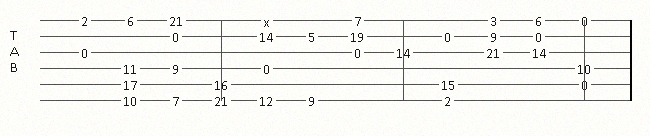0: (81, 46, 92, 59), (172, 30, 183, 43), (263, 62, 274, 75), (354, 46, 365, 59), (444, 30, 455, 43), (535, 30, 546, 43), (581, 14, 592, 27), (581, 78, 592, 91)
10: (123, 94, 141, 107), (577, 62, 595, 75)
11: (123, 62, 141, 75)
12: (259, 94, 277, 107)
14: (259, 30, 277, 43), (396, 46, 414, 59), (532, 46, 550, 59)
15: (441, 78, 459, 91)
16: (214, 78, 232, 91)
17: (123, 78, 141, 91)
19: (350, 30, 368, 43)
2: (81, 14, 92, 27), (444, 94, 455, 107)
21: (169, 14, 187, 27), (214, 94, 232, 107), (486, 46, 504, 59)
3: (490, 14, 501, 27)
5: (308, 30, 319, 43)
6: (127, 14, 138, 27), (535, 14, 546, 27)
7: (172, 94, 183, 107), (354, 14, 365, 27)
9: (172, 62, 183, 75), (308, 94, 319, 107), (490, 30, 501, 43)
x: (263, 15, 274, 26)
